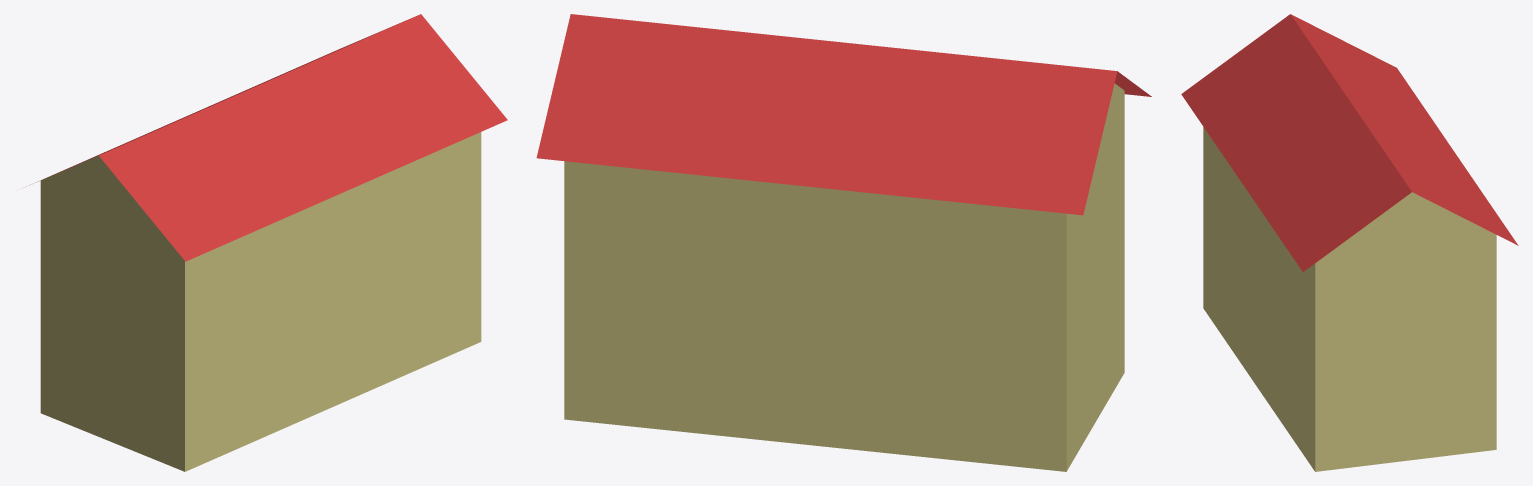
3 views of the same model, side by side, from view 1: azimuth 30°, elevation 25°; view 2: azimuth 150°, elevation 25°; view 3: azimuth 270°, elevation 25° (orthographic). The views are drawn at different scales.
Bounding box in the file's own units: 20.32 × 14.17 × 12.78.
